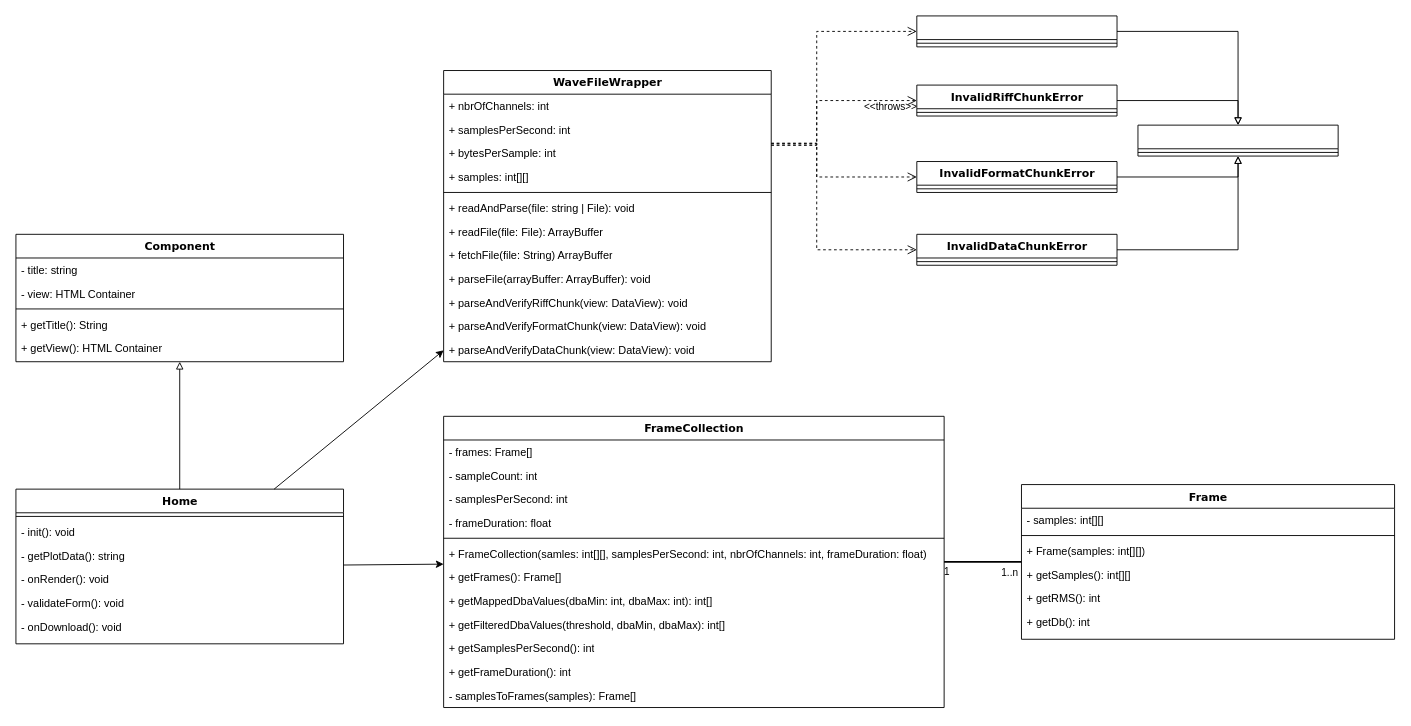
Some shapes in this 1411 by 726 pixel diagram are drawn without their labels. The centre of each missing label's shape, as x and y in pixels:
"InvalidFileError" goes at (x=1016, y=31).
"WaveFileWrapperError" goes at (x=1237, y=140).
